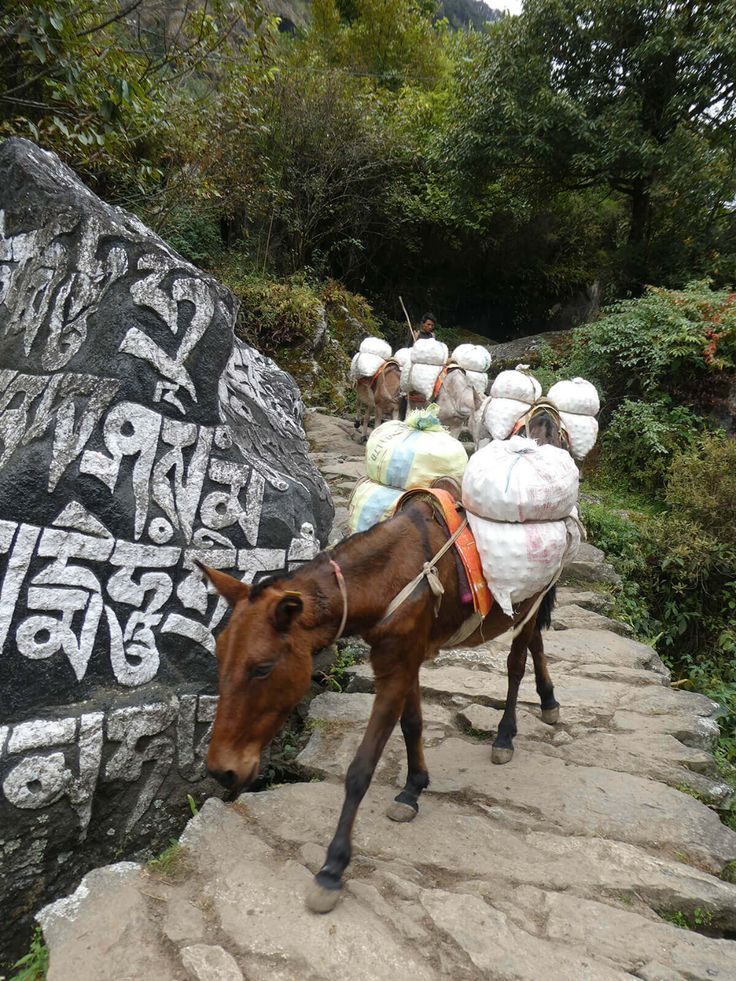equine: (158, 457, 632, 939)
human: (411, 303, 447, 356)
